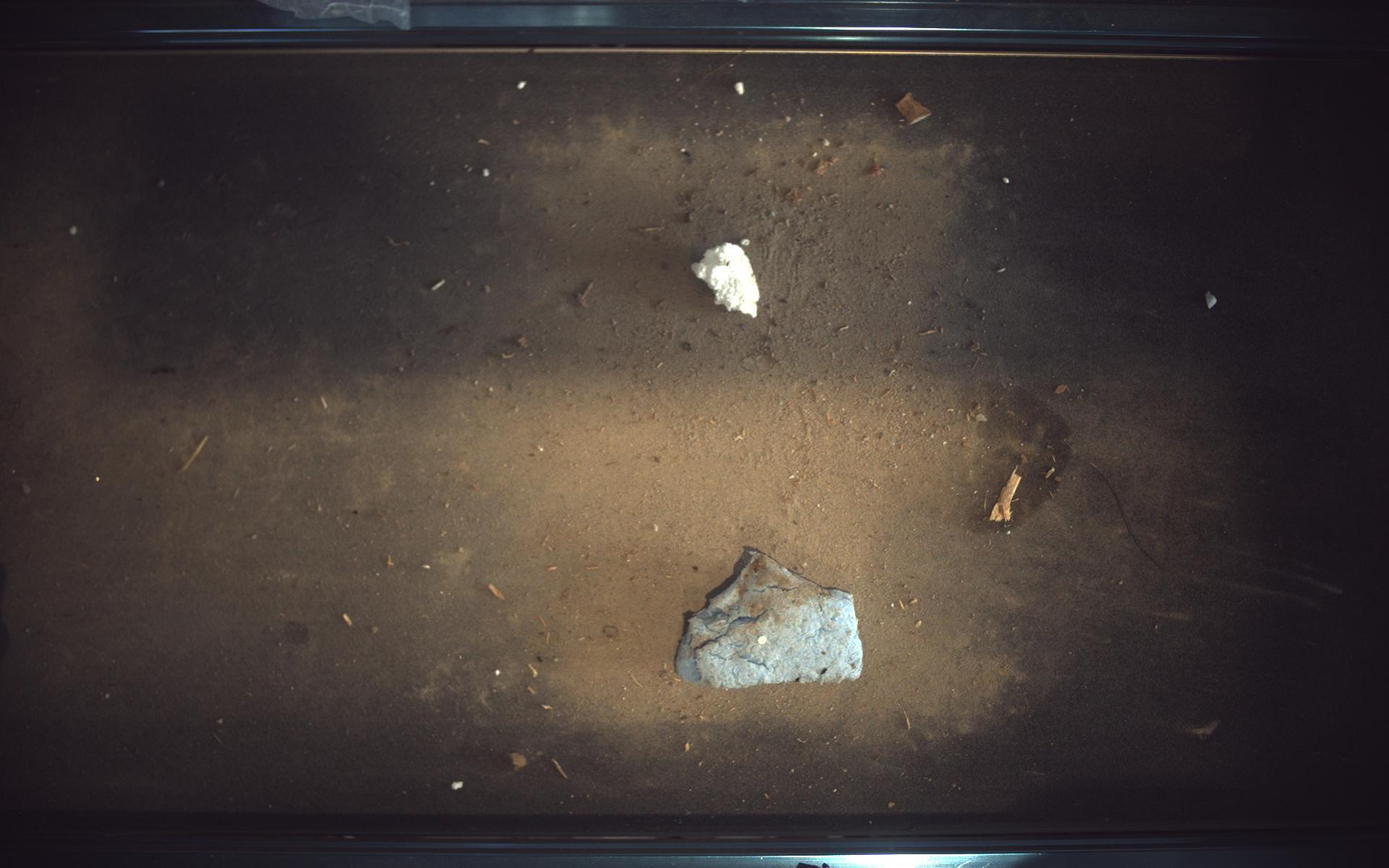foam: (676, 548, 865, 689), (693, 242, 761, 317)
